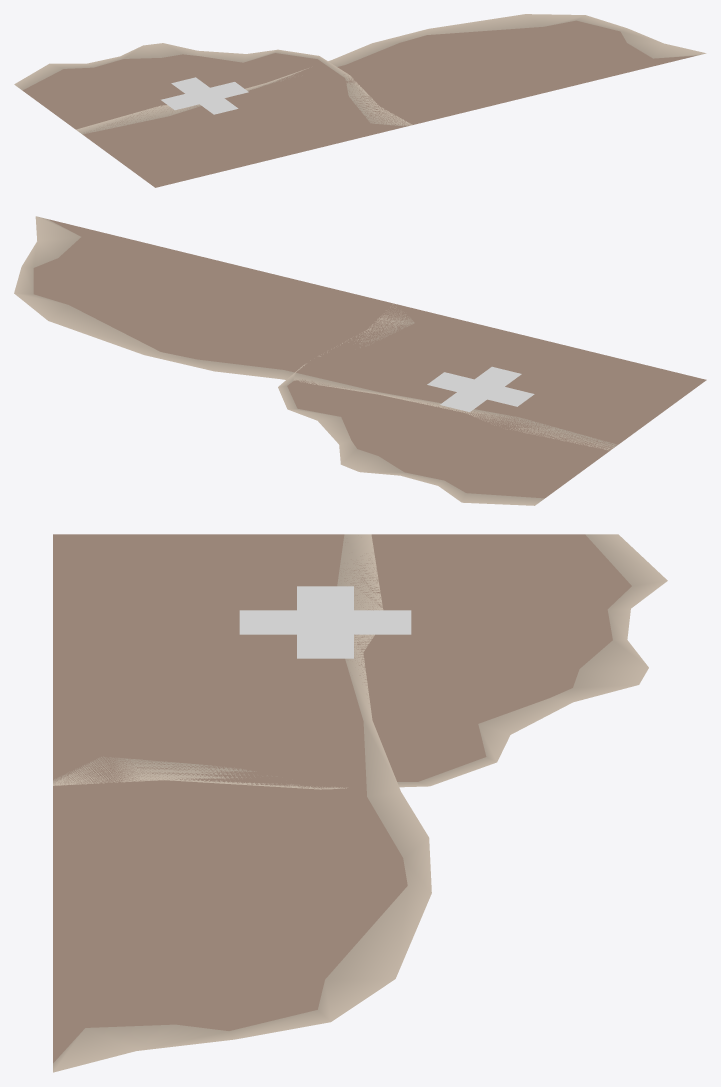
The model's file is UI_Hotbar.fbx.
3 renders of one model, top to bottom at view 1: azimuth 30°, elevation 25°; view 2: azimuth 150°, elevation 25°; view 3: azimuth 270°, elevation 25°, orthographic. The views are drawn at different scales.
Visible parts, largest first — view 1: Hotbar_Horizontal, Hotbar_Dpad, Icon_Dpad; view 2: Hotbar_Horizontal, Hotbar_Dpad, Icon_Dpad; view 3: Hotbar_Horizontal, Hotbar_Dpad, Icon_Dpad.
Boxes of the visible parts, x1=… form: Hotbar_Horizontal: x1=76, y1=14, x2=706, y2=187; Hotbar_Dpad: x1=14, y1=43, x2=412, y2=187; Icon_Dpad: x1=161, y1=77, x2=248, y2=114; Hotbar_Horizontal: x1=14, y1=216, x2=706, y2=450; Hotbar_Dpad: x1=278, y1=304, x2=705, y2=505; Icon_Dpad: x1=427, y1=366, x2=534, y2=412; Hotbar_Horizontal: x1=53, y1=534, x2=431, y2=1072; Hotbar_Dpad: x1=53, y1=534, x2=667, y2=789; Icon_Dpad: x1=239, y1=586, x2=411, y2=658.
Bounding box in the file's own units: 119 × 2.75 × 57.55.
